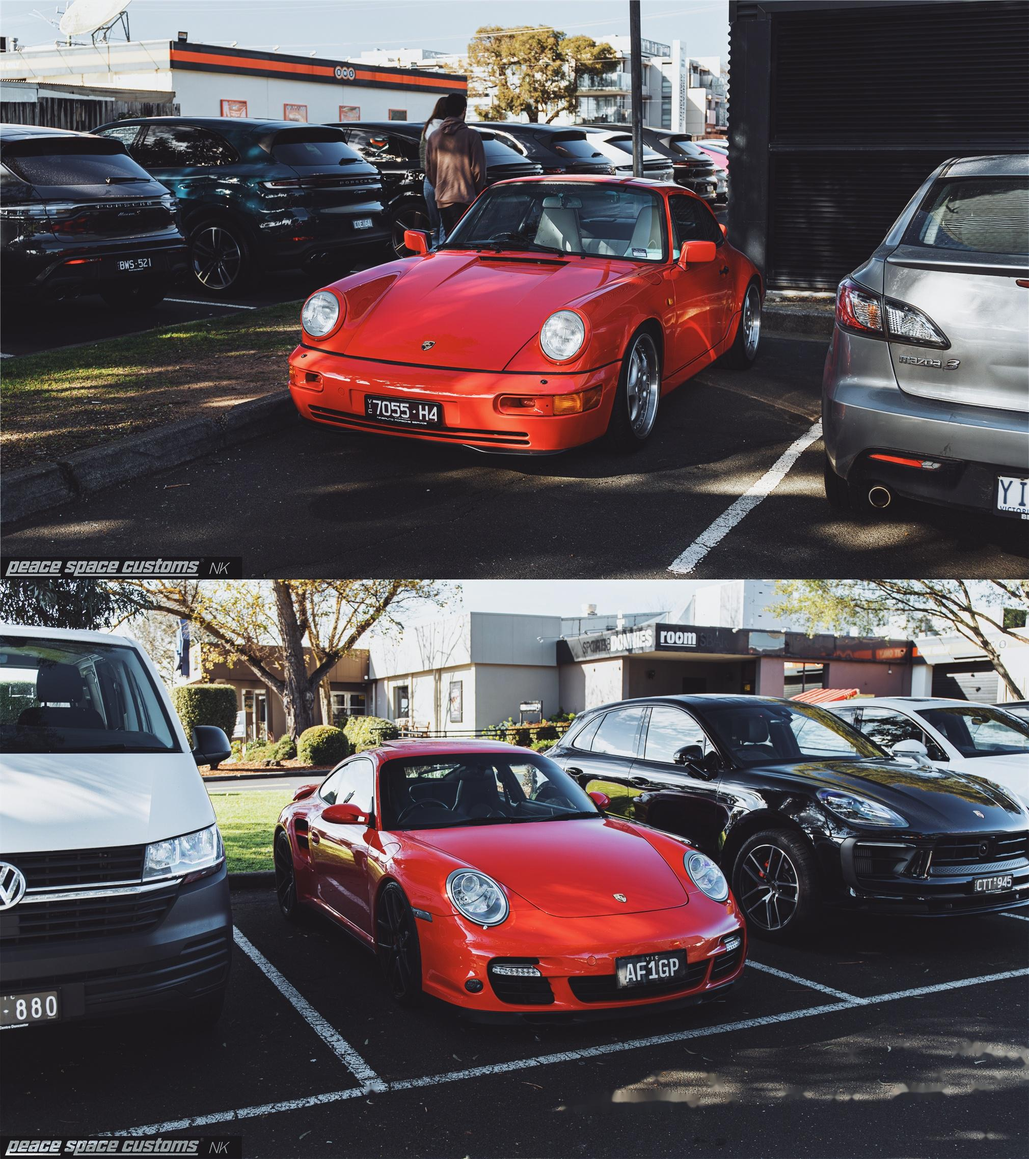other: (254, 740, 741, 1032), (290, 172, 764, 465), (559, 688, 1027, 947), (0, 622, 234, 1045), (826, 160, 1029, 563), (134, 115, 385, 302), (0, 119, 191, 306)
